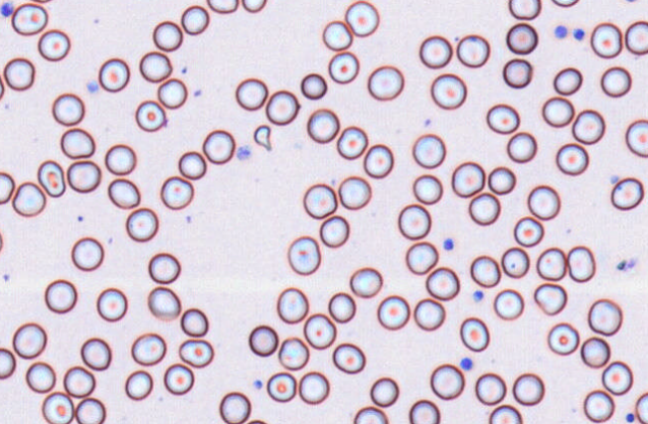PLT: (235, 144, 255, 162), (0, 0, 14, 19), (553, 24, 570, 39), (442, 236, 457, 251), (572, 26, 587, 40), (86, 80, 100, 93), (460, 358, 475, 370), (623, 411, 636, 424), (472, 290, 484, 304), (253, 379, 263, 390)
RBC: (287, 235, 320, 275), (430, 73, 466, 109), (429, 363, 464, 400), (587, 298, 622, 335), (367, 65, 404, 100), (344, 0, 379, 36), (265, 89, 300, 125), (12, 181, 46, 217), (12, 322, 46, 358), (397, 203, 431, 239), (451, 161, 485, 197), (11, 2, 48, 35), (147, 285, 181, 320), (66, 159, 101, 193), (303, 183, 337, 218), (303, 313, 336, 349), (527, 184, 560, 220), (425, 266, 459, 300), (160, 175, 194, 209), (131, 332, 166, 365), (306, 108, 339, 143), (125, 207, 158, 242), (70, 236, 103, 271), (572, 109, 605, 144), (202, 129, 235, 164), (412, 133, 445, 168), (276, 287, 308, 323), (590, 22, 622, 58), (338, 175, 371, 209), (44, 279, 77, 313), (51, 92, 84, 126), (610, 177, 644, 210), (533, 282, 567, 315), (456, 34, 490, 67), (601, 360, 633, 395), (377, 295, 409, 330), (405, 241, 438, 274), (235, 77, 268, 110), (419, 35, 452, 68), (555, 142, 588, 175), (3, 57, 35, 91), (60, 127, 95, 158), (98, 57, 129, 92), (566, 245, 595, 282), (37, 159, 65, 197), (41, 391, 74, 423), (332, 342, 365, 374), (37, 29, 70, 61), (512, 372, 544, 405), (474, 372, 506, 405), (547, 322, 579, 355), (413, 297, 445, 330), (468, 192, 500, 225), (278, 336, 309, 370), (336, 125, 367, 159), (96, 287, 127, 321), (363, 143, 393, 178), (459, 316, 489, 351), (63, 365, 95, 397), (219, 391, 251, 423), (148, 252, 180, 284), (104, 143, 136, 175), (505, 22, 537, 54), (298, 371, 329, 404), (583, 389, 614, 422), (107, 178, 140, 209), (80, 337, 111, 370), (139, 51, 172, 82), (349, 266, 382, 297), (541, 96, 574, 127), (486, 103, 519, 134), (178, 338, 213, 367), (25, 361, 56, 393), (163, 363, 194, 395), (135, 100, 166, 132), (493, 288, 524, 320), (328, 51, 359, 83), (536, 247, 566, 280), (600, 66, 631, 97), (248, 324, 278, 356), (319, 215, 349, 247), (580, 336, 610, 368), (506, 131, 536, 163), (470, 255, 500, 287), (369, 376, 399, 407), (157, 78, 187, 109), (266, 371, 296, 402), (513, 216, 543, 247), (152, 20, 182, 51), (412, 174, 442, 204), (322, 20, 352, 50), (502, 58, 532, 88), (328, 291, 356, 323), (501, 246, 529, 278), (625, 119, 648, 157), (124, 369, 152, 400), (180, 5, 209, 34), (553, 66, 582, 95), (624, 20, 648, 55), (180, 307, 208, 336), (178, 150, 206, 179), (75, 397, 106, 423), (487, 166, 515, 194), (408, 399, 440, 423), (300, 72, 327, 99), (508, 0, 541, 20), (488, 404, 522, 423), (353, 405, 388, 423), (0, 347, 16, 379), (0, 171, 14, 204), (206, 0, 238, 13), (635, 392, 648, 423), (241, 0, 267, 12), (550, 0, 580, 7), (245, 418, 268, 424), (0, 73, 4, 102), (0, 226, 3, 254), (28, 0, 55, 3), (620, 0, 641, 2)
Schistocyte: (253, 125, 275, 152)
